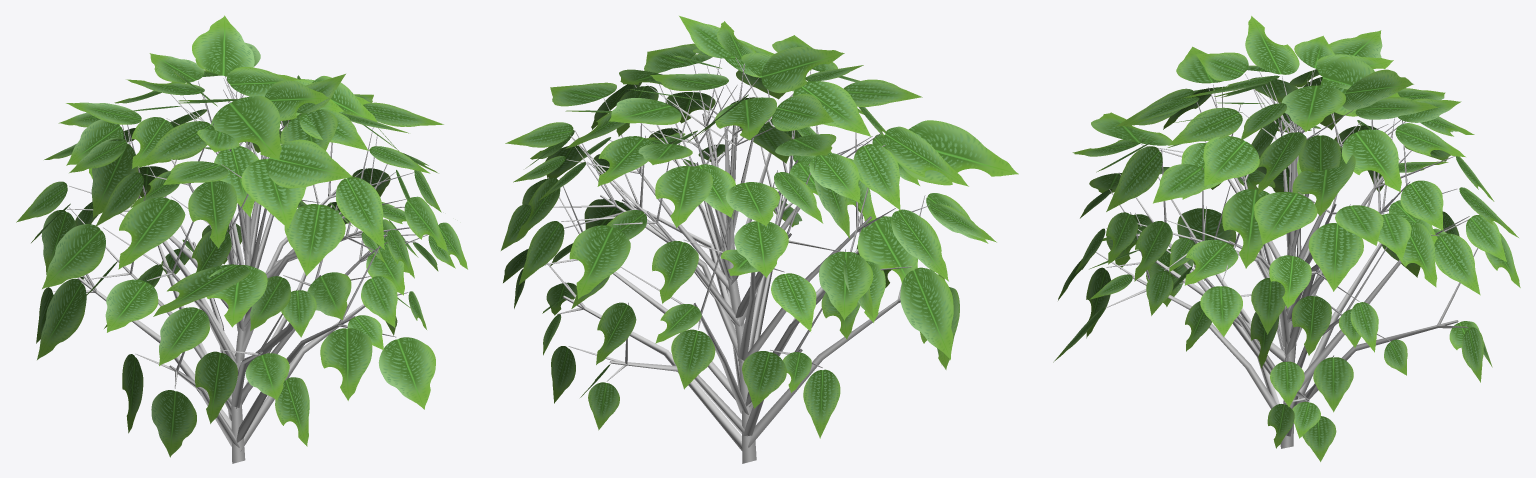
Rendered from arbuste_green.fbx.
The picture shows the model from 3 angles, left to right: view 1: azimuth 30°, elevation 25°; view 2: azimuth 150°, elevation 25°; view 3: azimuth 270°, elevation 25°; orthographic projection. The views are drawn at different scales.
Visible parts, largest first — view 1: arbuste_green; view 2: arbuste_green; view 3: arbuste_green.
Part boxes in pixels (x1,y1,x2,y2): arbuste_green: (16, 15, 467, 463); arbuste_green: (501, 16, 1018, 463); arbuste_green: (1053, 16, 1520, 461).
Bounding box in the file's own units: 145 × 134 × 145.
